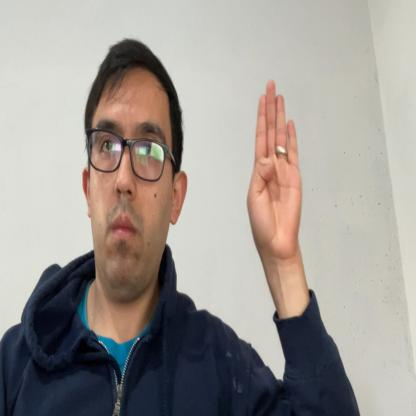B: (247, 80, 302, 264)
